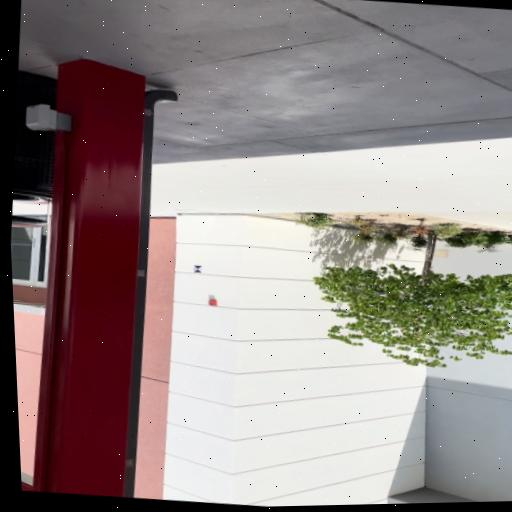target2: (192, 265, 203, 273)
